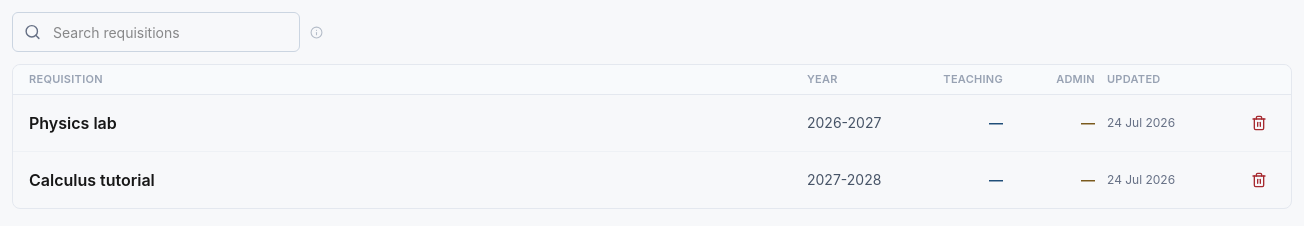
Scenario: RequisitionHistory › shows outlined requisition items and filters them by label or academic year
Expected: the number of list items is 2, [13,94,1291,152]; [13,152,1291,208]
Type "2027-2028" into the search field labelled "Search requisitions". click: (156, 32)
box: [12,12,300,52]
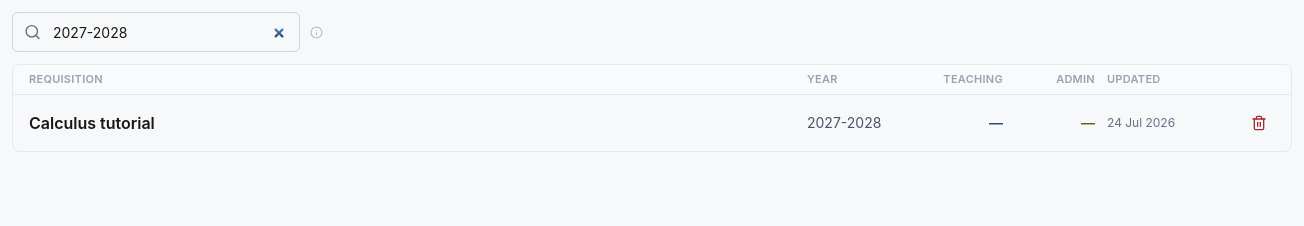
Expected: the button "Calculus tutorial" is shown, [29,110,155,134]
Now the button "Physics lab" is gone
